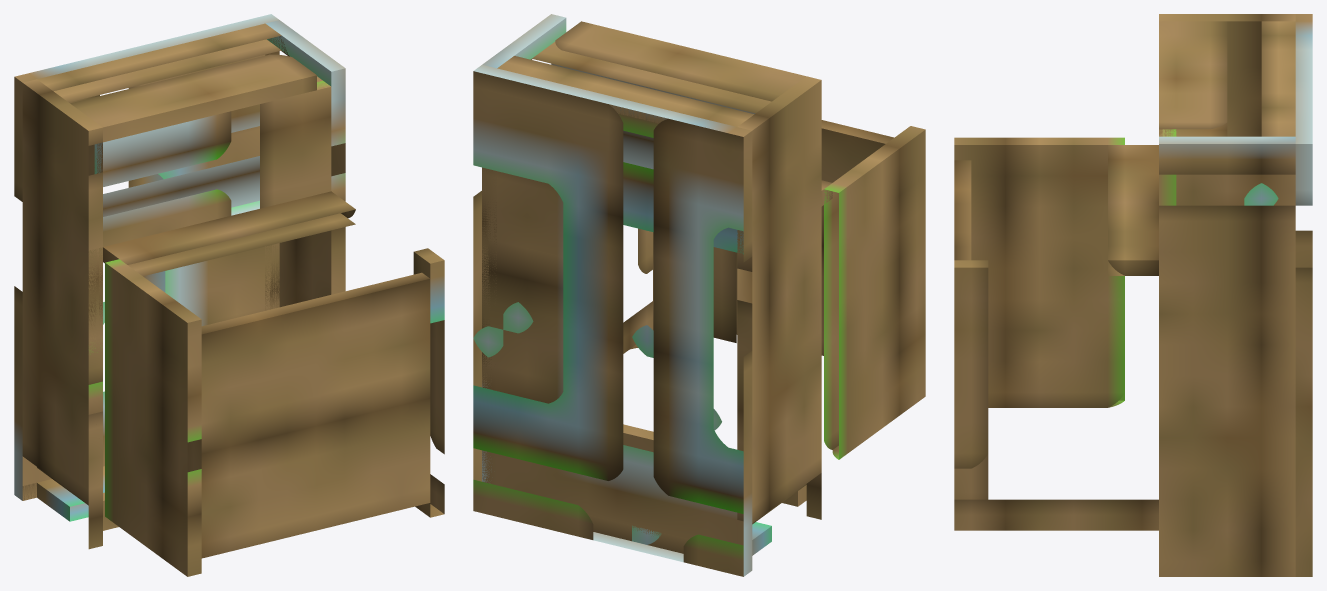
Rendered from wood_body.obj.
3 renders of one model, left to right at view 1: azimuth 30°, elevation 25°; view 2: azimuth 150°, elevation 25°; view 3: azimuth 270°, elevation 25°, orthographic. The views are drawn at different scales.
Visible parts, largest first — view 1: Import.005; view 2: Import.005; view 3: Import.005.
Boxes of the visible parts, x1=… form: Import.005: x1=14, y1=14, x2=444, y2=576; Import.005: x1=473, y1=14, x2=925, y2=576; Import.005: x1=954, y1=14, x2=1312, y2=576.
Size of the model in its own units: 1.12 by 1.75 by 1.31.
